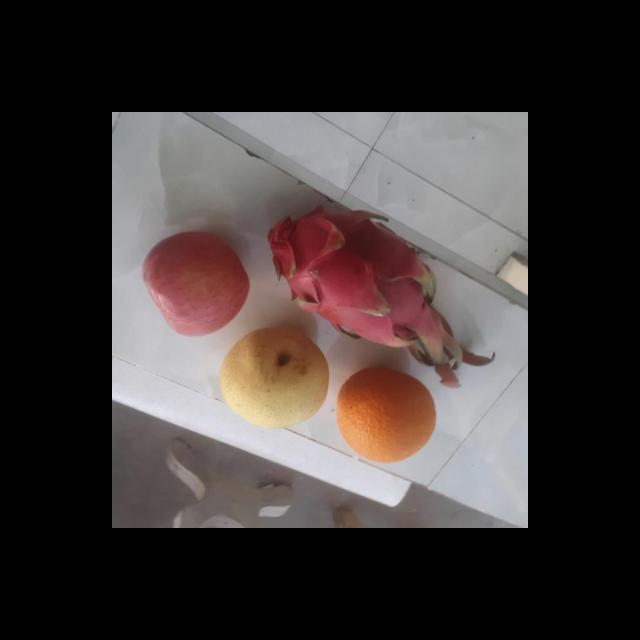apple: (138, 234, 248, 336)
orange: (332, 367, 438, 461)
pear: (212, 326, 330, 428)
pitaya: (262, 207, 434, 352)
